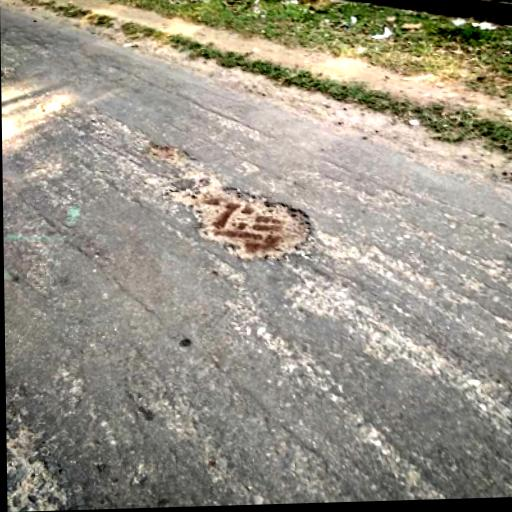pothole: (174, 175, 313, 263), (146, 141, 191, 166)
